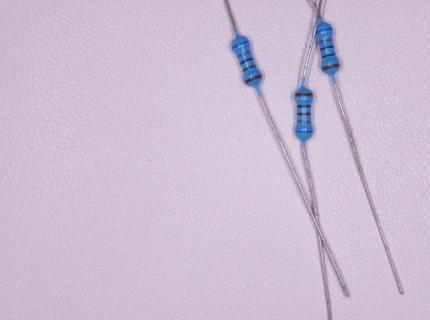Blue band: (231, 40, 250, 50), (316, 28, 333, 34), (295, 130, 313, 133)
Grey band: (237, 50, 251, 58), (319, 37, 333, 45), (297, 120, 312, 124)
